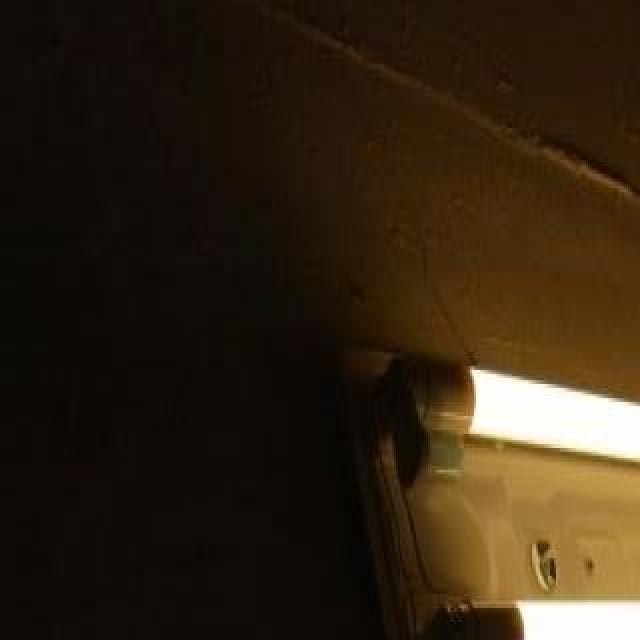fluorescent tube: (348, 356, 640, 552), (420, 588, 640, 640)
